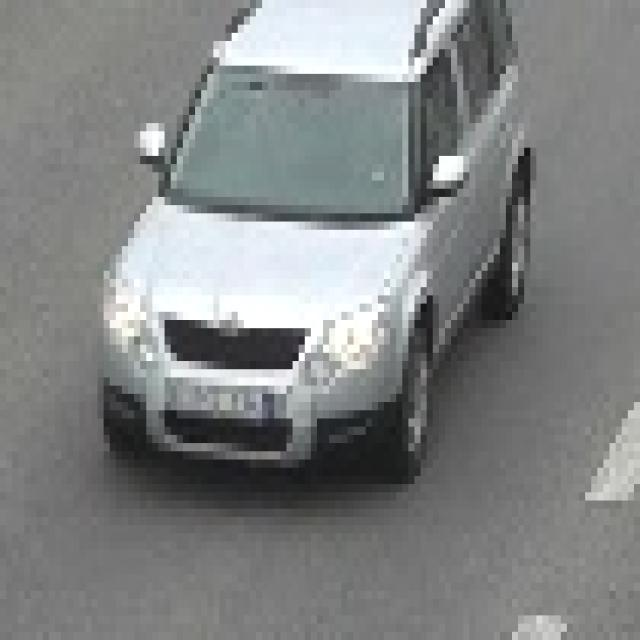SUV: (103, 0, 530, 451)
